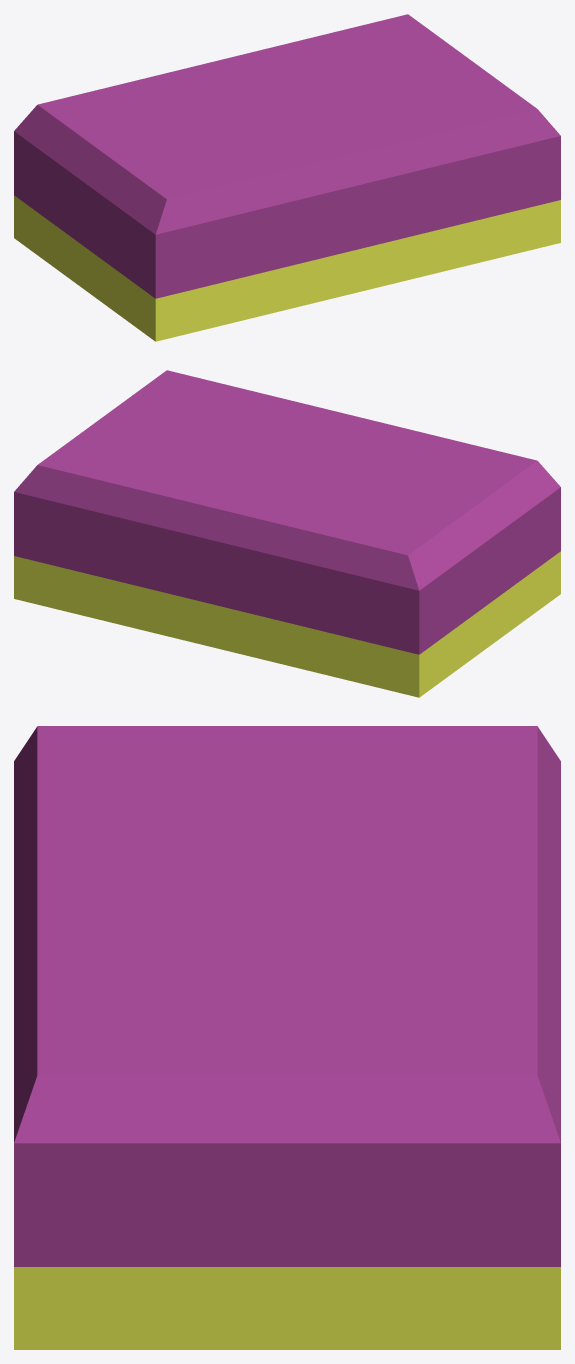
File: sponge02.fbx
The picture shows the model from 3 angles, top to bottom: view 1: azimuth 30°, elevation 25°; view 2: azimuth 150°, elevation 25°; view 3: azimuth 270°, elevation 25°; orthographic projection. The views are drawn at different scales.
Parts seen in each view (by area): view 1: Cube; view 2: Cube; view 3: Cube.
Boxes of the visible parts, left/top/right/bottom form: Cube: left=14, top=14, right=560, bottom=341; Cube: left=14, top=370, right=560, bottom=697; Cube: left=14, top=726, right=560, bottom=1349.
Bounding box in the file's own units: 10.51 × 3.31 × 6.36.
